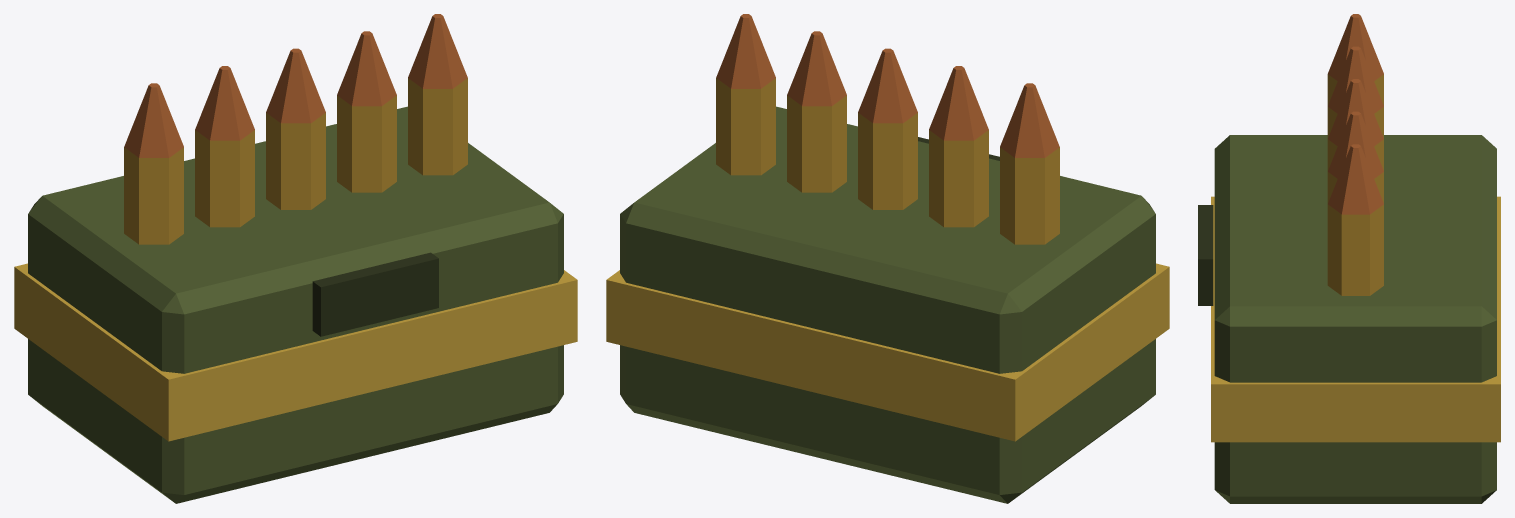
The model's file is ammo_pistol.glb.
3 views of the same model, side by side, from view 1: azimuth 30°, elevation 25°; view 2: azimuth 150°, elevation 25°; view 3: azimuth 270°, elevation 25° (orthographic). The views are drawn at different scales.
Parts seen in each view (by area): view 1: AmmoPistol; view 2: AmmoPistol; view 3: AmmoPistol.
Boxes of the visible parts, x1,y1,x2,y2 form: AmmoPistol: (14,14,577,503); AmmoPistol: (606,14,1169,503); AmmoPistol: (1198,14,1500,503).
Size of the model in its own units: 0.346 by 0.29 by 0.236.
